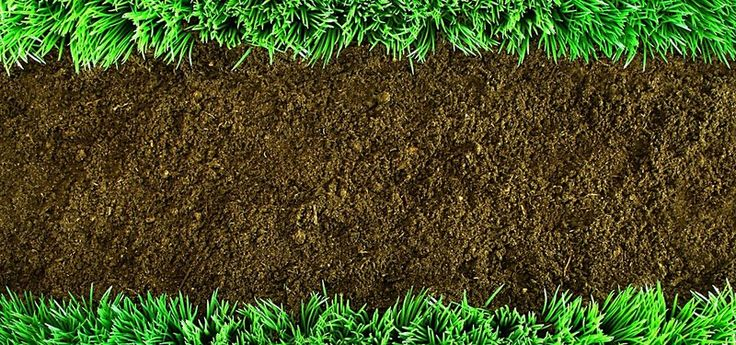dirt: (11, 60, 714, 287)
grass: (2, 2, 735, 57), (2, 296, 734, 342)
